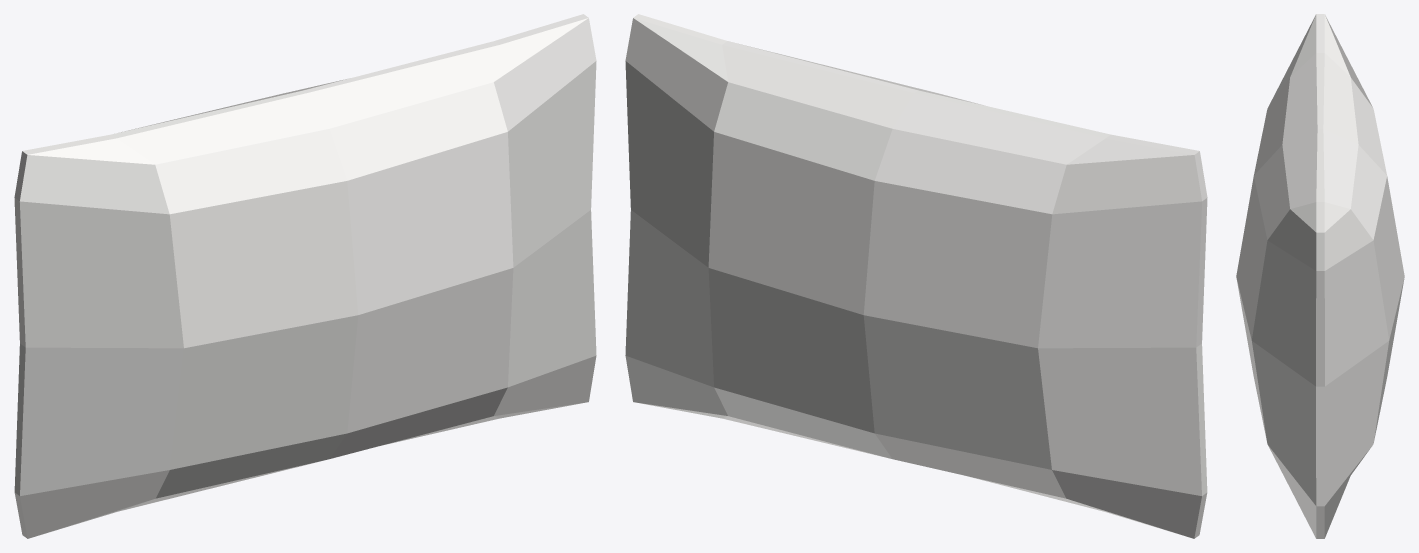
File: Pillow_9.fbx
3 views of the same model, side by side, from view 1: azimuth 30°, elevation 25°; view 2: azimuth 150°, elevation 25°; view 3: azimuth 270°, elevation 25° (orthographic). The views are drawn at different scales.
Visible parts, largest first — view 1: Pillow_9; view 2: Pillow_9; view 3: Pillow_9.
Boxes of the visible parts, x1,y1,x2,y2 form: Pillow_9: (14,14,596,538); Pillow_9: (625,14,1207,538); Pillow_9: (1236,14,1404,538).
Bounding box in the file's own units: 66.76 × 21.18 × 42.5.
